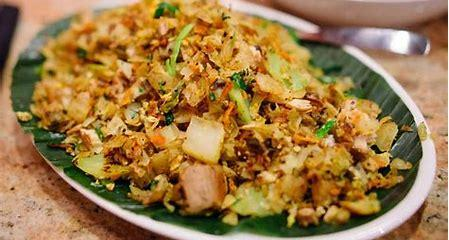Kottu: (18, 7, 408, 232)
